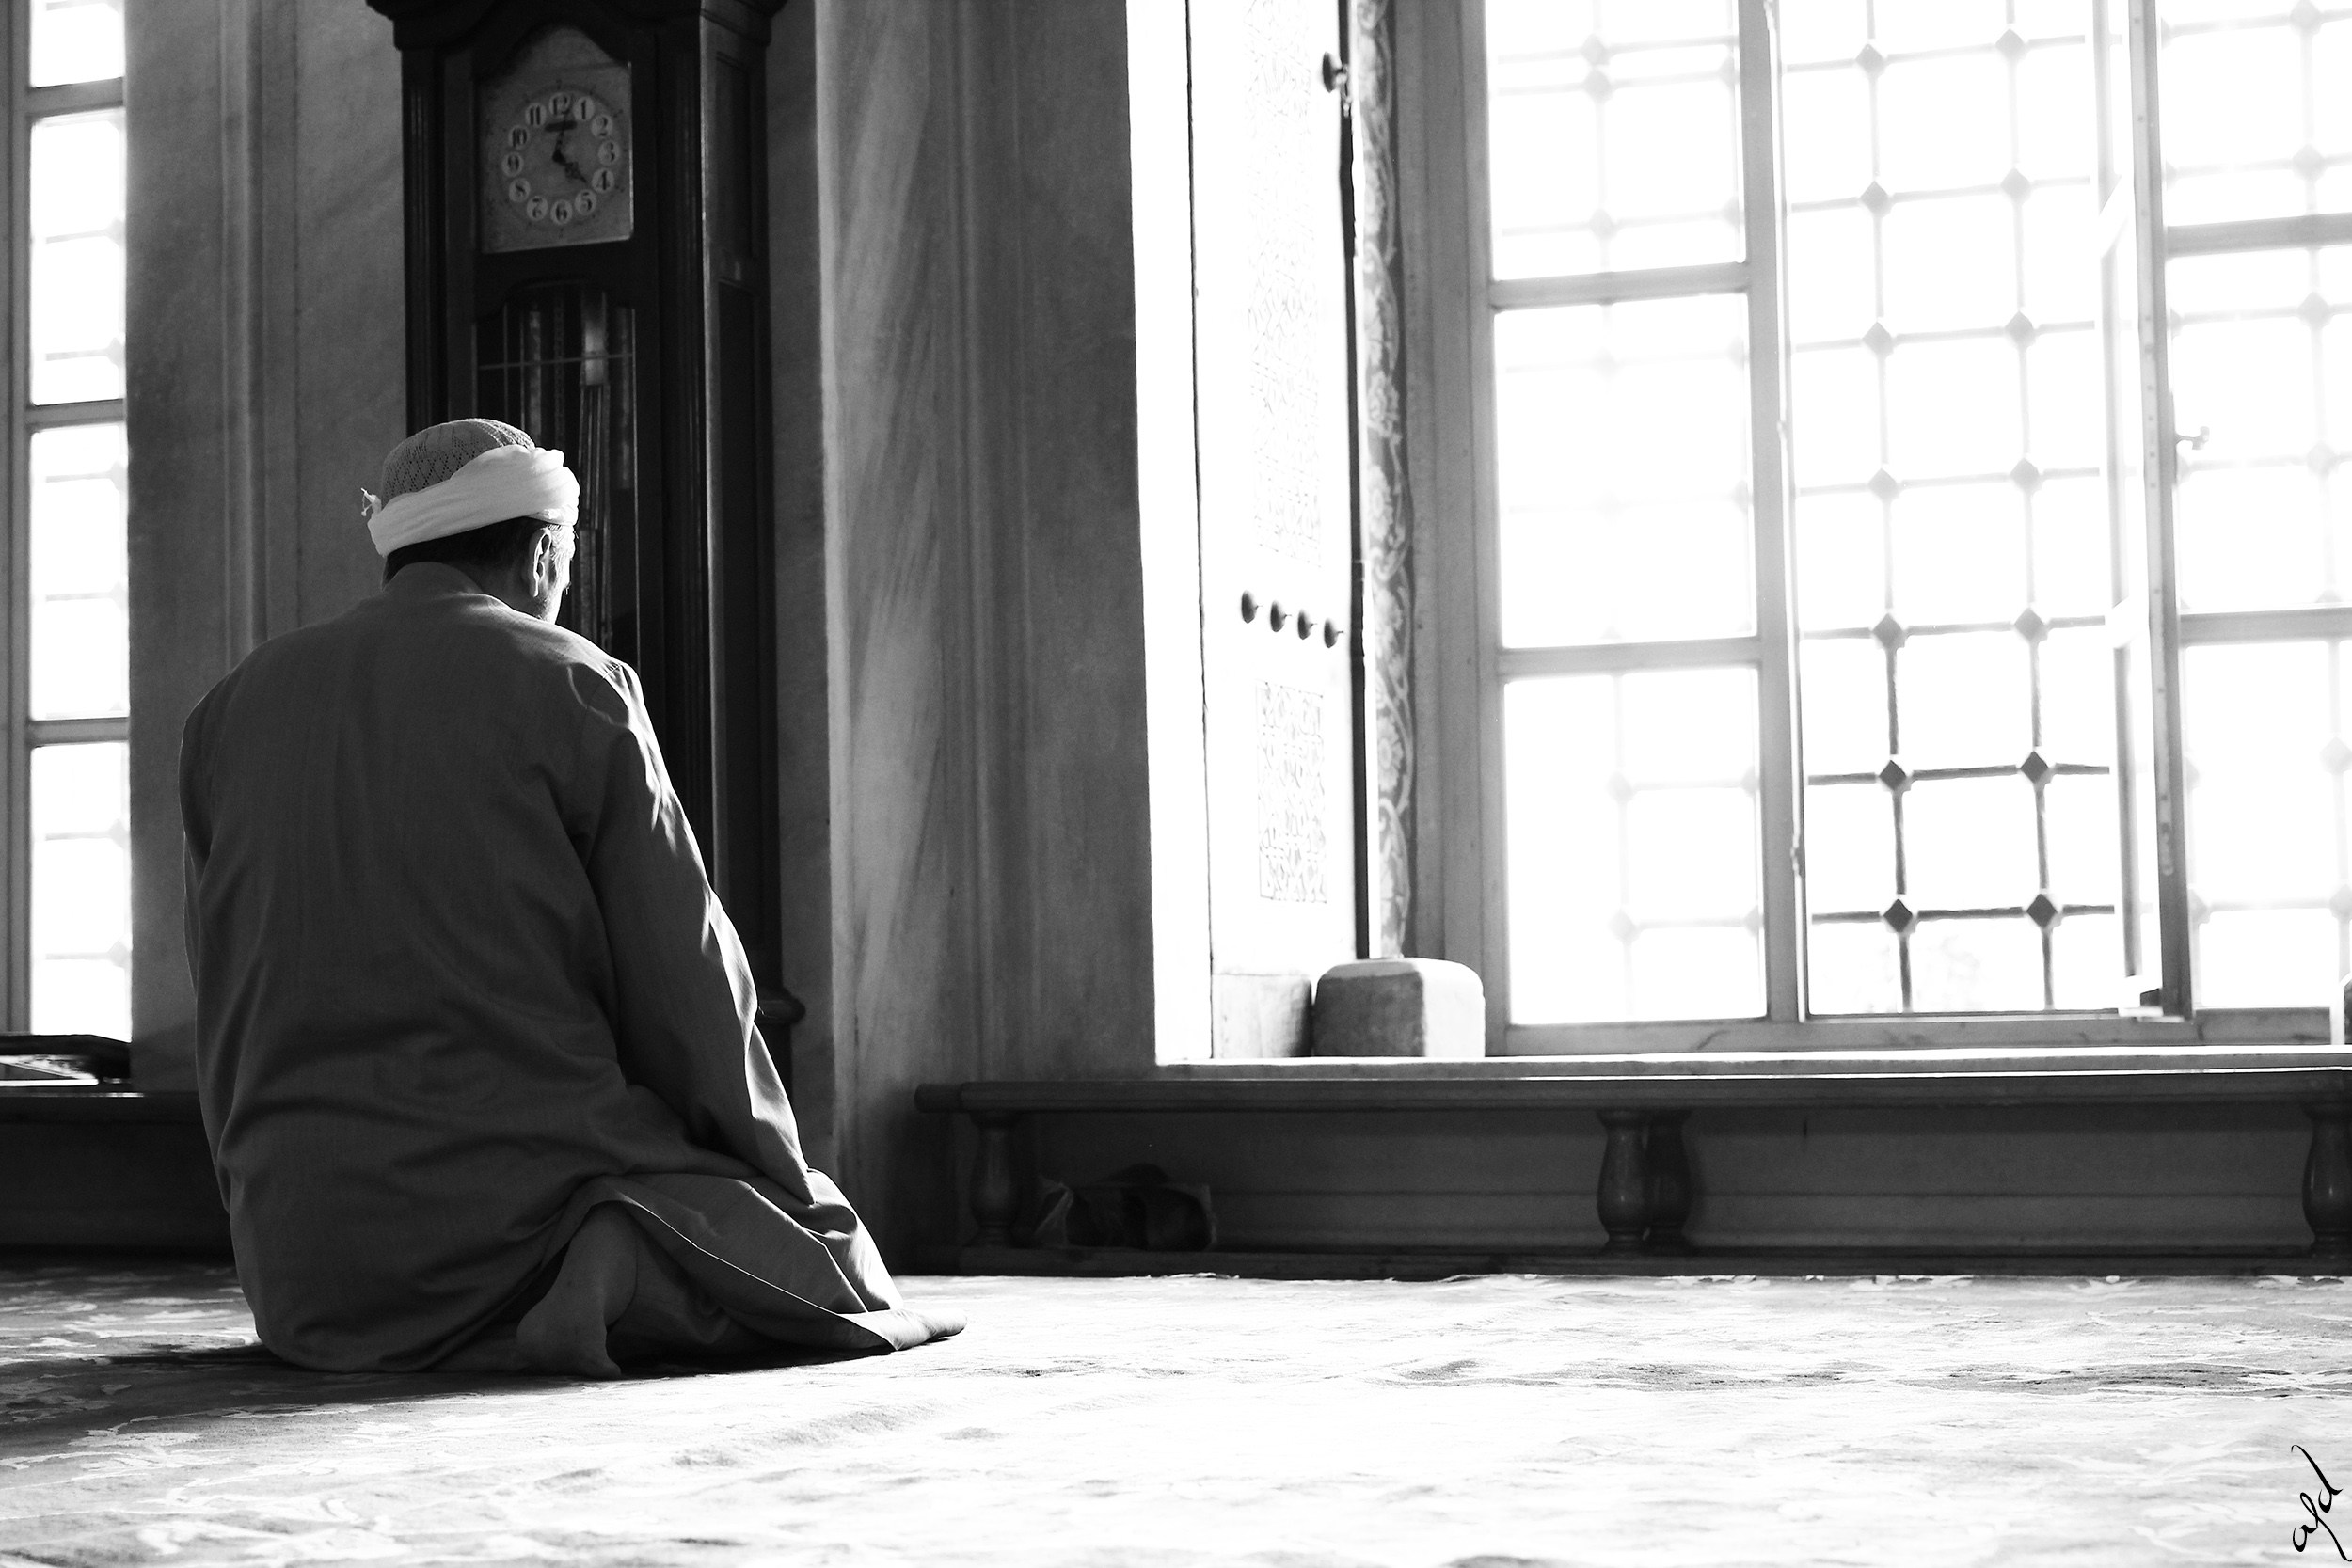sitting: (177, 413, 889, 1375)
